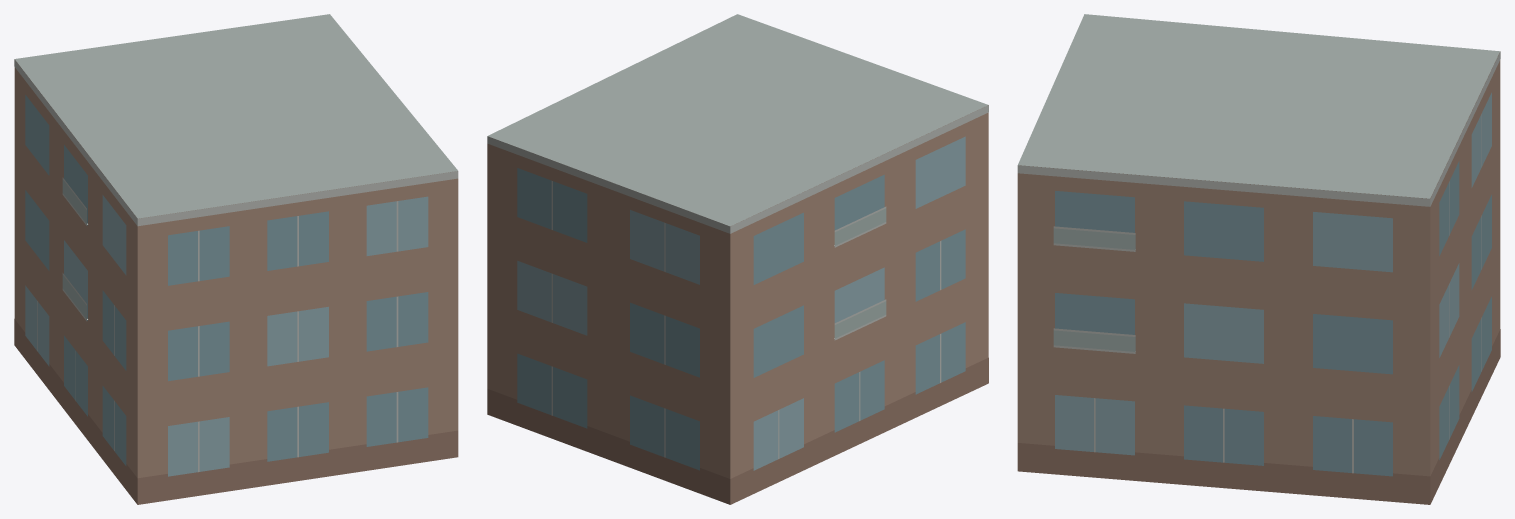
File: survey-upis-32702657.glb
3 views of the same model, side by side, from view 1: azimuth 30°, elevation 25°; view 2: azimuth 150°, elevation 25°; view 3: azimuth 270°, elevation 25° (orthographic). The views are drawn at different scales.
Visible parts, largest first — view 1: survey-upis-32702657.tmp; view 2: survey-upis-32702657.tmp; view 3: survey-upis-32702657.tmp.
Boxes of the visible parts, x1=… form: survey-upis-32702657.tmp: x1=14, y1=14, x2=458, y2=504; survey-upis-32702657.tmp: x1=487, y1=14, x2=988, y2=504; survey-upis-32702657.tmp: x1=1017, y1=14, x2=1500, y2=504.
Size of the model in its own units: 11.85 by 9.15 by 13.08.
